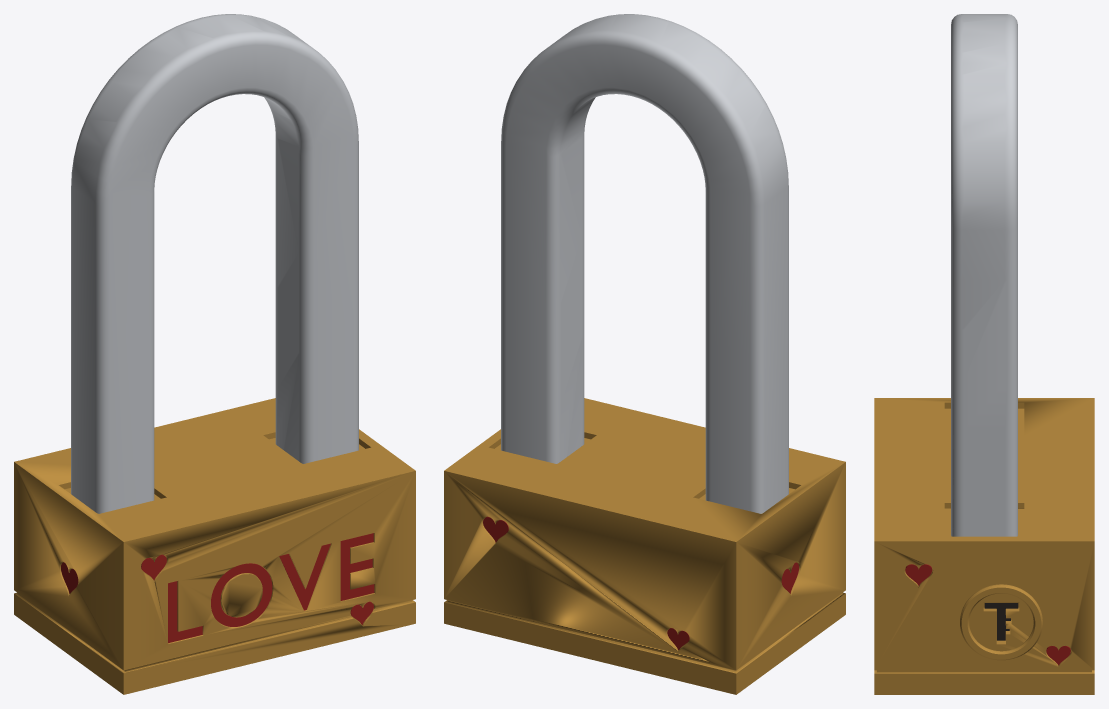
File: lock.glb
3 renders of one model, left to right at view 1: azimuth 30°, elevation 25°; view 2: azimuth 150°, elevation 25°; view 3: azimuth 270°, elevation 25°, orthographic.
Parts seen in each view (by area): view 1: shackle, body, love_fill, heart0; view 2: body, shackle, heart0; view 3: body, shackle, emblem_ring, heart0, keyway_floor.
Boxes of the visible parts, left/top/right/bottom form: shackle: left=71, top=14, right=358, bottom=513; body: left=14, top=398, right=415, bottom=694; love_fill: left=168, top=533, right=374, bottom=643; heart0: left=61, top=554, right=373, bottom=624; body: left=444, top=398, right=845, bottom=694; shackle: left=501, top=14, right=788, bottom=513; heart0: left=483, top=516, right=798, bottom=649; body: left=874, top=398, right=1094, bottom=694; shackle: left=951, top=14, right=1017, bottom=536; emblem_ring: left=960, top=584, right=1042, bottom=660; heart0: left=905, top=564, right=1070, bottom=665; keyway_floor: left=984, top=603, right=1018, bottom=640.
Bounding box in the file's own units: 0.0809 × 0.155 × 0.052.
